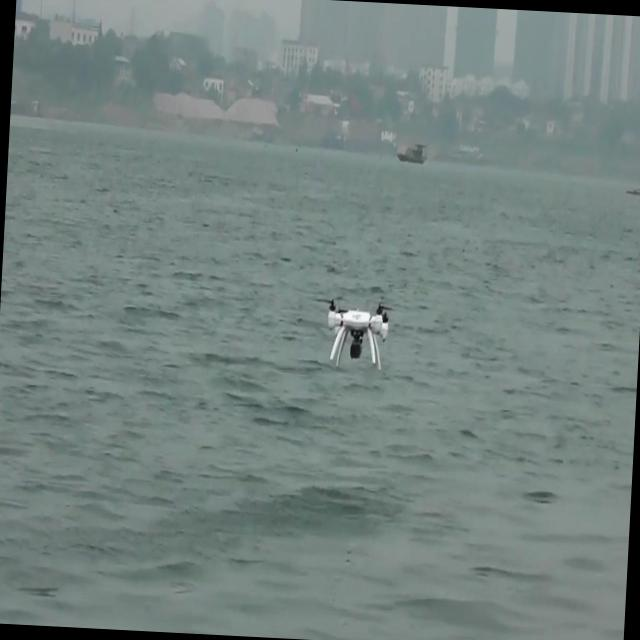drone: (320, 295, 396, 373)
